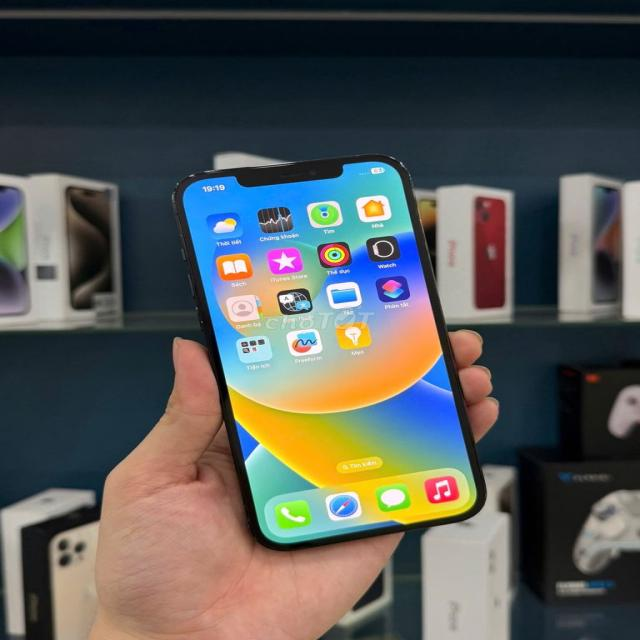gen_12_13: (172, 153, 489, 549)
